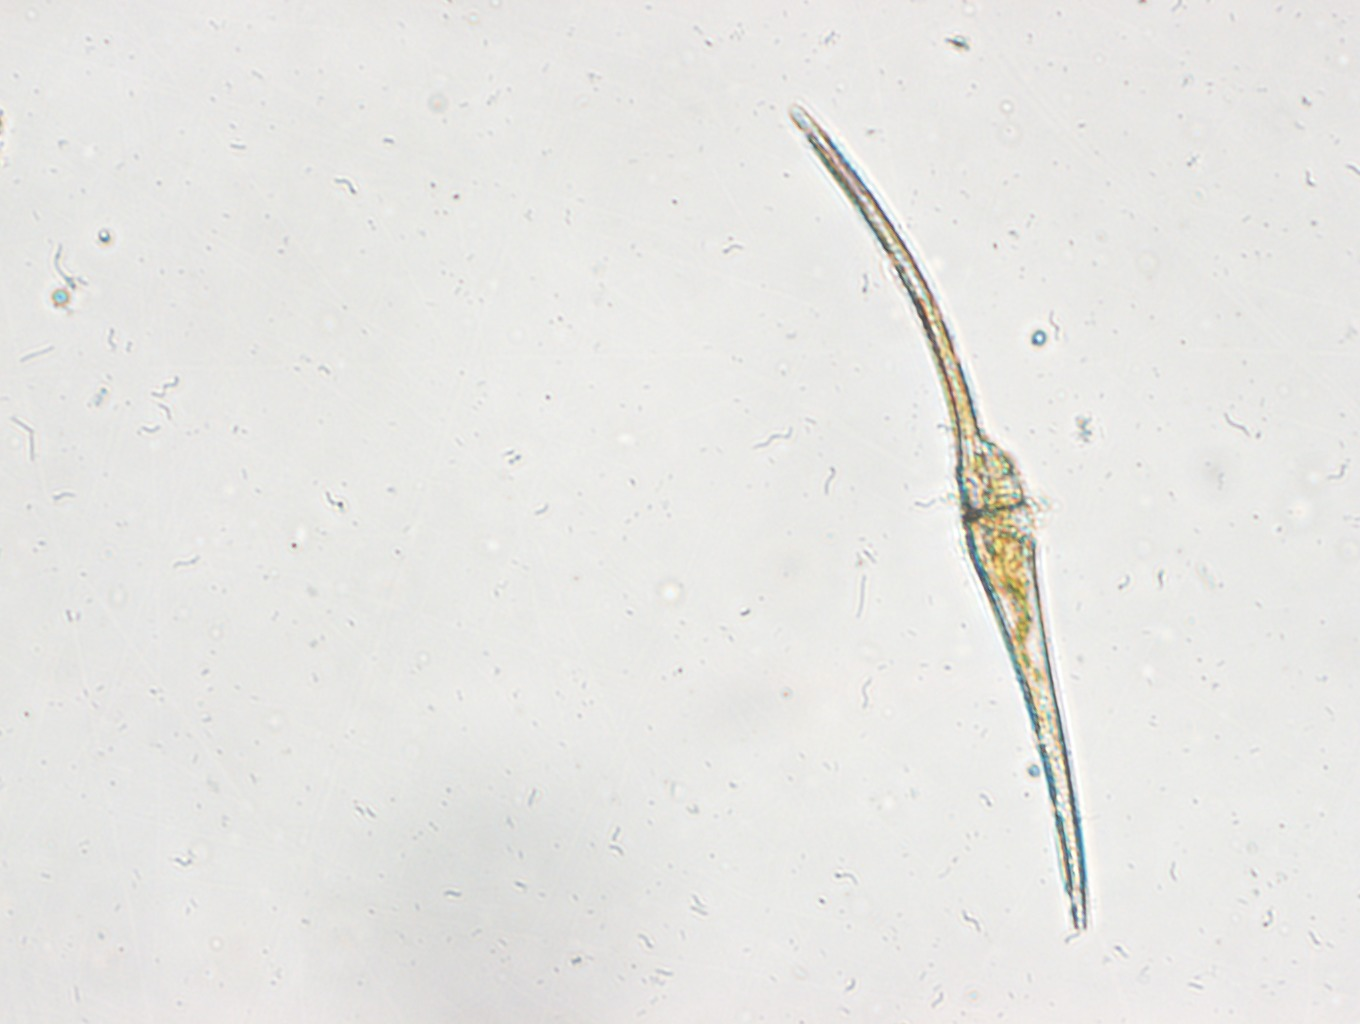ceratium fusus: (779, 99, 1103, 945)
